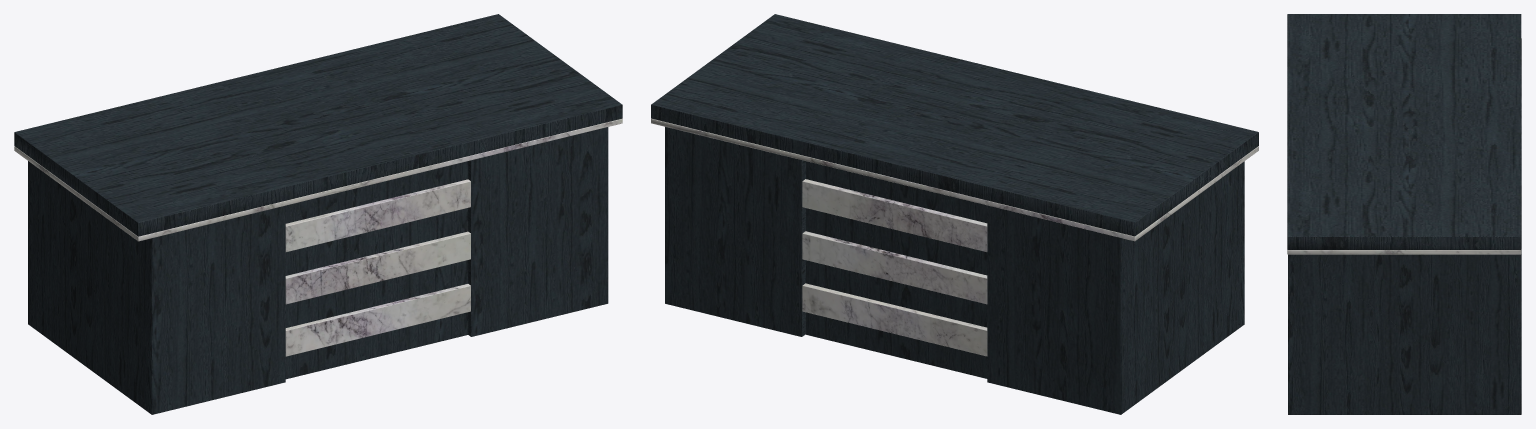
3 views of the same model, side by side, from view 1: azimuth 30°, elevation 25°; view 2: azimuth 150°, elevation 25°; view 3: azimuth 270°, elevation 25° (orthographic). The views are drawn at different scales.
Visible parts, largest first — view 1: Ceo_Desk_0, Ceo_Desk_Top_3, Ceo_Desk_Bar_2, Ceo_Desk_Fleet_1; view 2: Ceo_Desk_0, Ceo_Desk_Top_3, Ceo_Desk_Bar_2, Ceo_Desk_Fleet_1; view 3: Ceo_Desk_Top_3, Ceo_Desk_0, Ceo_Desk_Fleet_1.
Boxes of the visible parts, x1,y1,x2,y2 form: Ceo_Desk_0: [28, 127, 608, 414]; Ceo_Desk_Top_3: [14, 14, 622, 236]; Ceo_Desk_Bar_2: [285, 179, 470, 356]; Ceo_Desk_Fleet_1: [14, 118, 622, 241]; Ceo_Desk_0: [665, 127, 1244, 414]; Ceo_Desk_Top_3: [651, 14, 1258, 236]; Ceo_Desk_Bar_2: [802, 179, 987, 356]; Ceo_Desk_Fleet_1: [651, 118, 1258, 241]; Ceo_Desk_Top_3: [1287, 14, 1521, 249]; Ceo_Desk_0: [1288, 38, 1521, 414]; Ceo_Desk_Fleet_1: [1287, 250, 1521, 254].
Size of the model in its own units: 1.8 by 0.6969 by 0.8004.
Materials: 2 (2 with a texture image).
